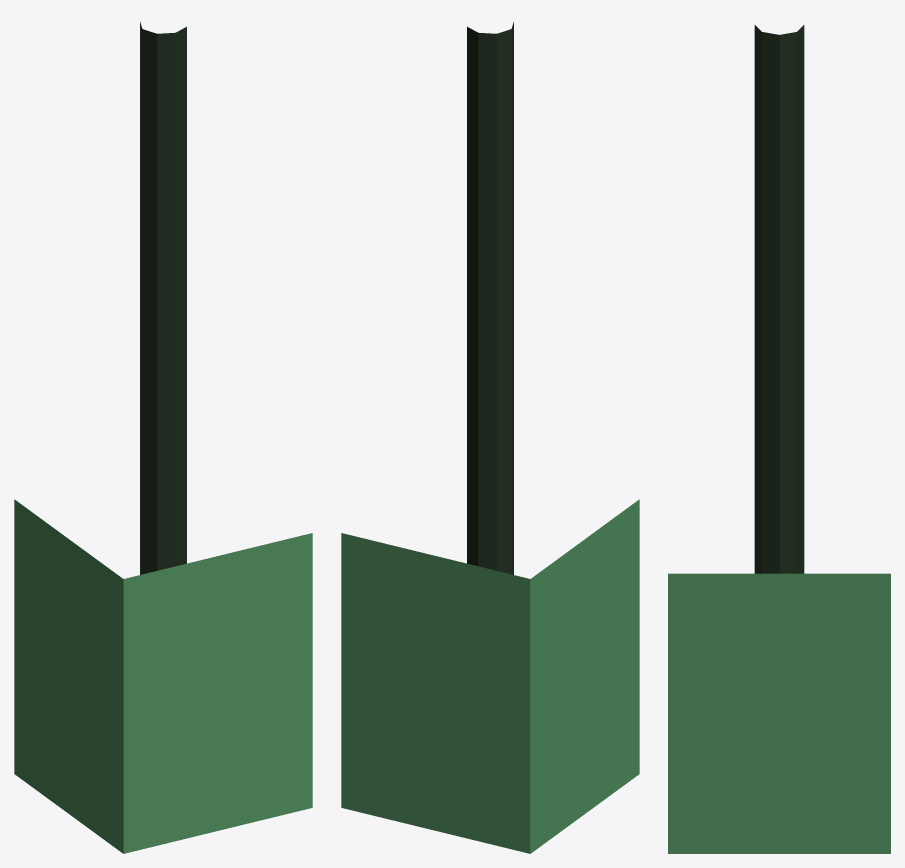
Rendered from undying.glb.
3 renders of one model, left to right at view 1: azimuth 30°, elevation 25°; view 2: azimuth 150°, elevation 25°; view 3: azimuth 270°, elevation 25°, orthographic. The views are drawn at different scales.
Parts seen in each view (by area): view 1: undying-head, undying-handle; view 2: undying-head, undying-handle; view 3: undying-head, undying-handle.
Part boxes in pixels (x1,y1,x2,y2): undying-head: [14, 499, 312, 853]; undying-handle: [140, 22, 186, 574]; undying-head: [341, 499, 639, 853]; undying-handle: [467, 22, 513, 574]; undying-head: [668, 573, 890, 853]; undying-handle: [754, 25, 804, 573].
Bounding box in the file's own units: 0.36 × 1.39 × 0.36.
